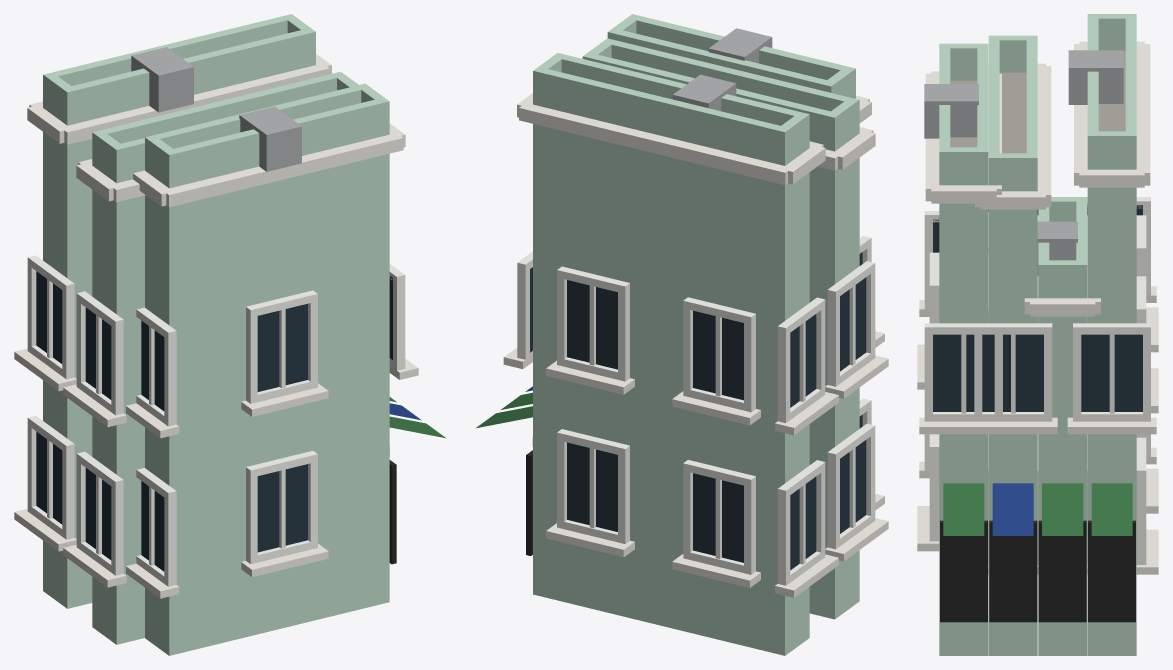
3 views of the same model, side by side, from view 1: azimuth 30°, elevation 25°; view 2: azimuth 150°, elevation 25°; view 3: azimuth 270°, elevation 25° (orthographic).
Visible parts, largest first — view 1: b11950; view 2: b11950; view 3: b11950.
Boxes of the visible parts, x1,y1,x2,y2 form: b11950: (14, 14, 445, 655); b11950: (476, 14, 888, 655); b11950: (917, 14, 1158, 655).
Size of the model in its own units: 2769 by 4218 by 1760.
